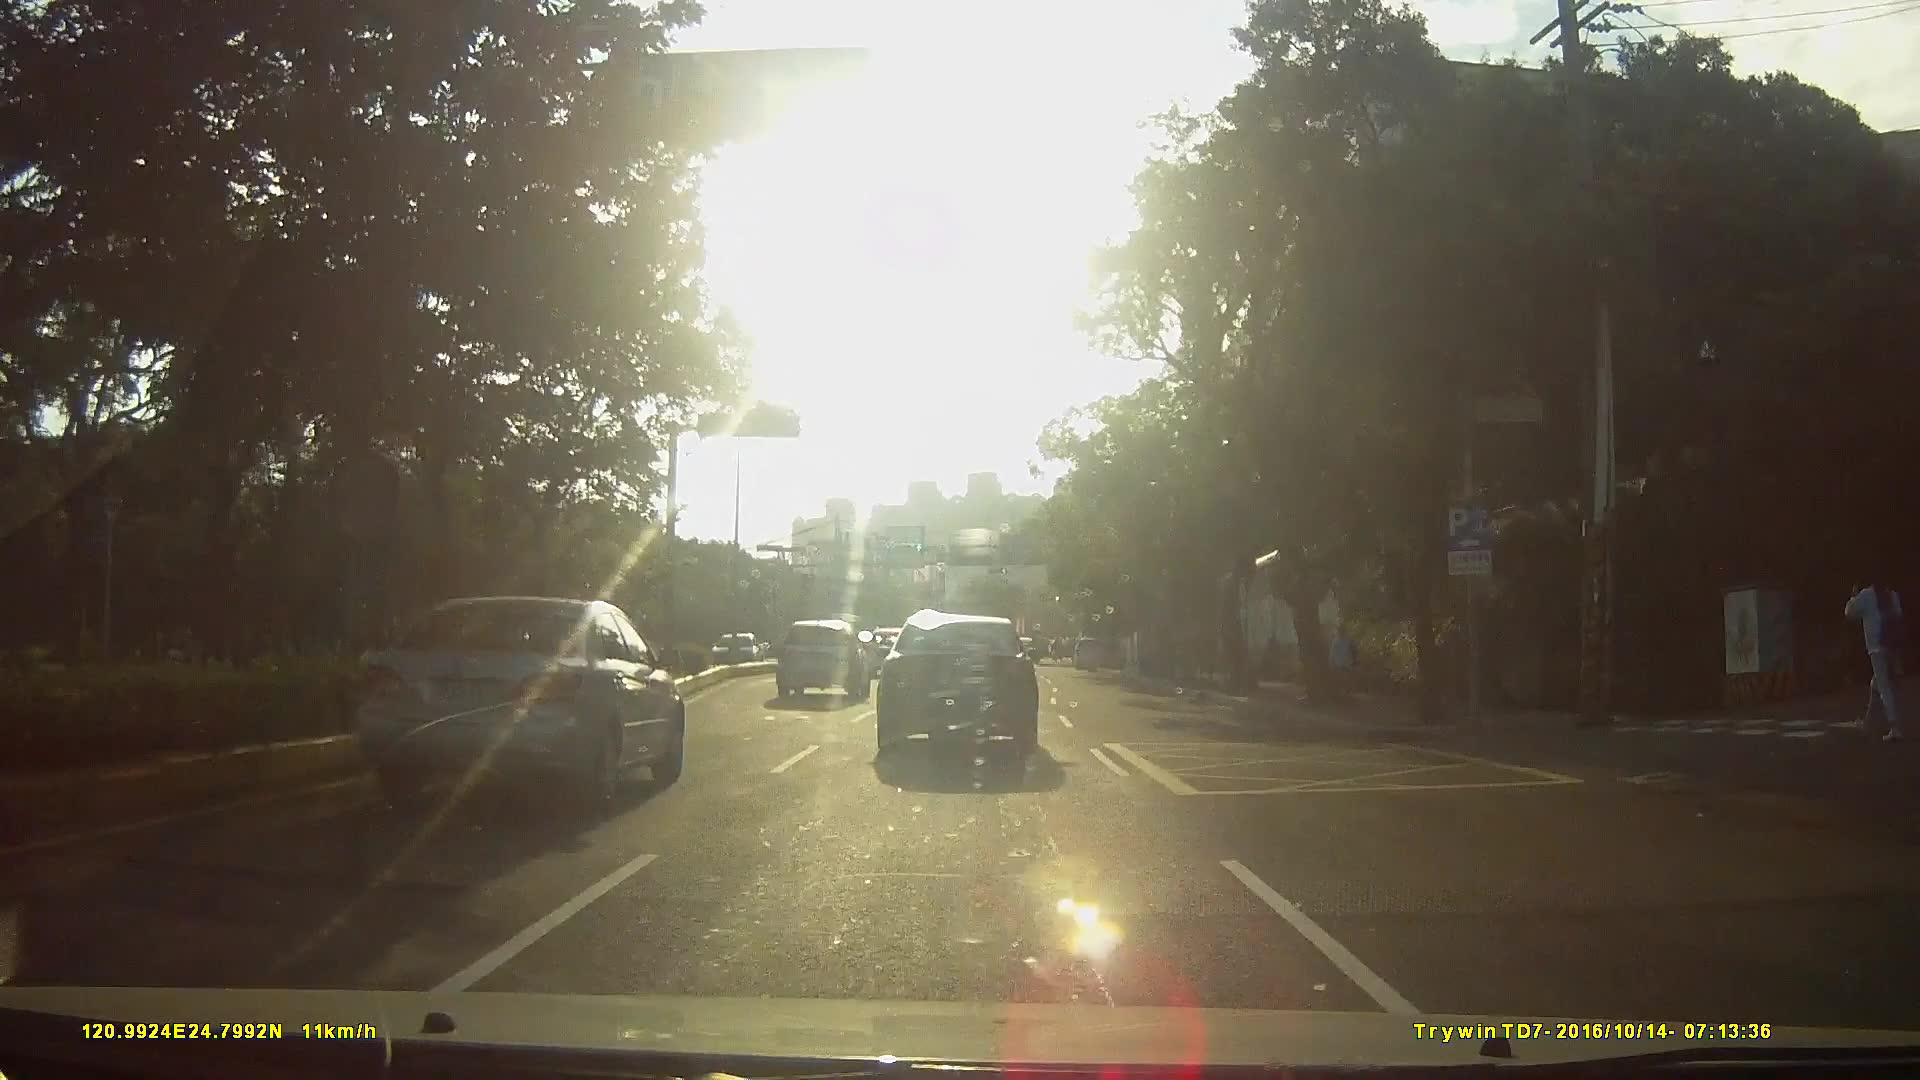pedestrian: (1845, 565, 1904, 742)
vehicle: (353, 595, 684, 809), (868, 620, 1054, 773), (770, 621, 869, 705), (695, 632, 746, 671), (1067, 638, 1104, 673)
